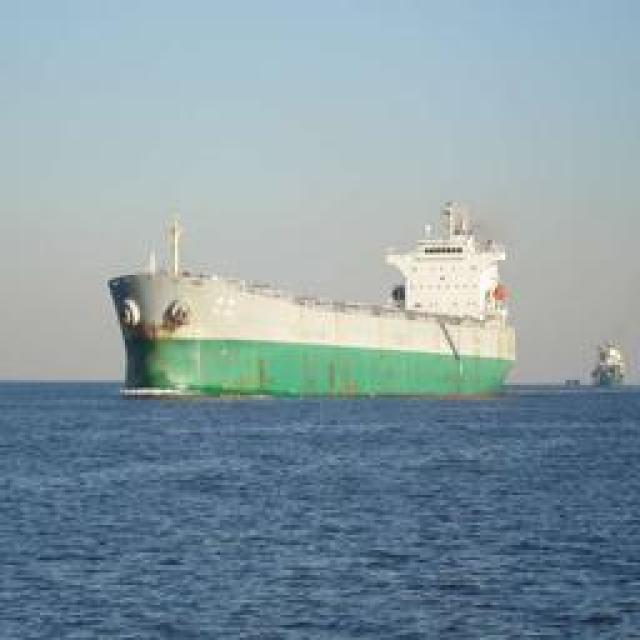CIV_Ship: (101, 194, 516, 406)
